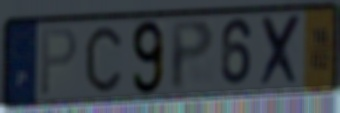6: (219, 16, 253, 91)
9: (129, 18, 168, 97)
C: (83, 24, 123, 95)
P: (169, 17, 216, 94), (39, 24, 79, 99)
X: (259, 12, 304, 91)
